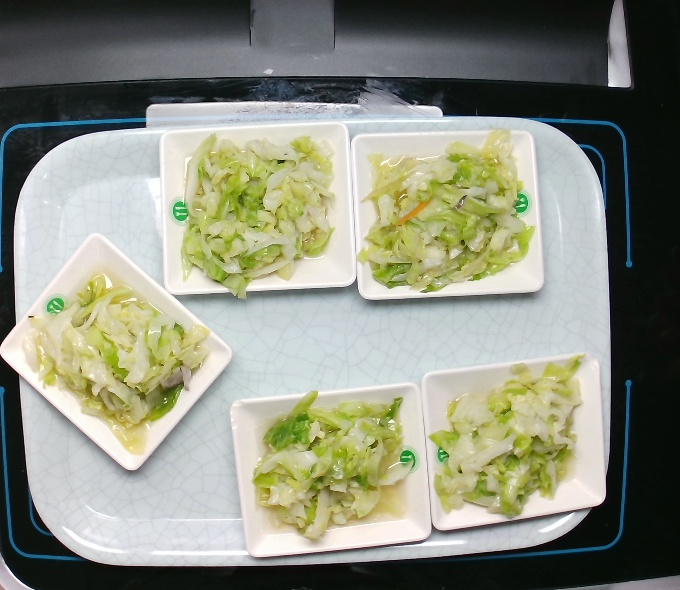wcq-JuanXinCai: (21, 265, 213, 464), (412, 356, 602, 517), (357, 133, 536, 299), (244, 389, 437, 542), (175, 129, 341, 296)
